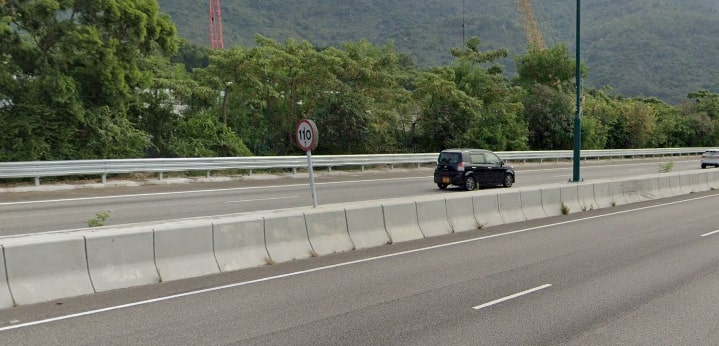Speed Limit: (293, 117, 318, 150)
